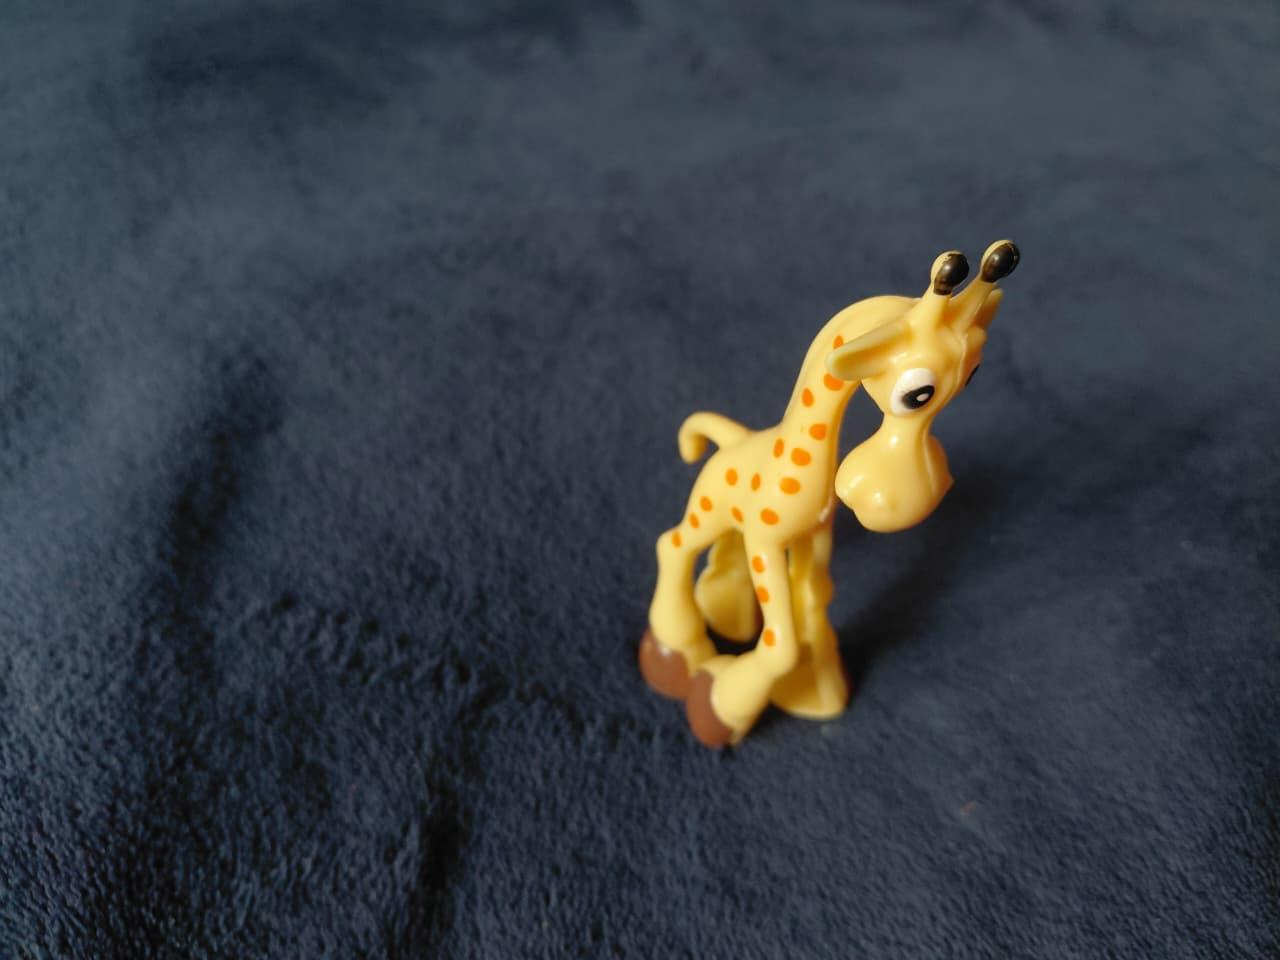giraffe: (636, 236, 1016, 752)
